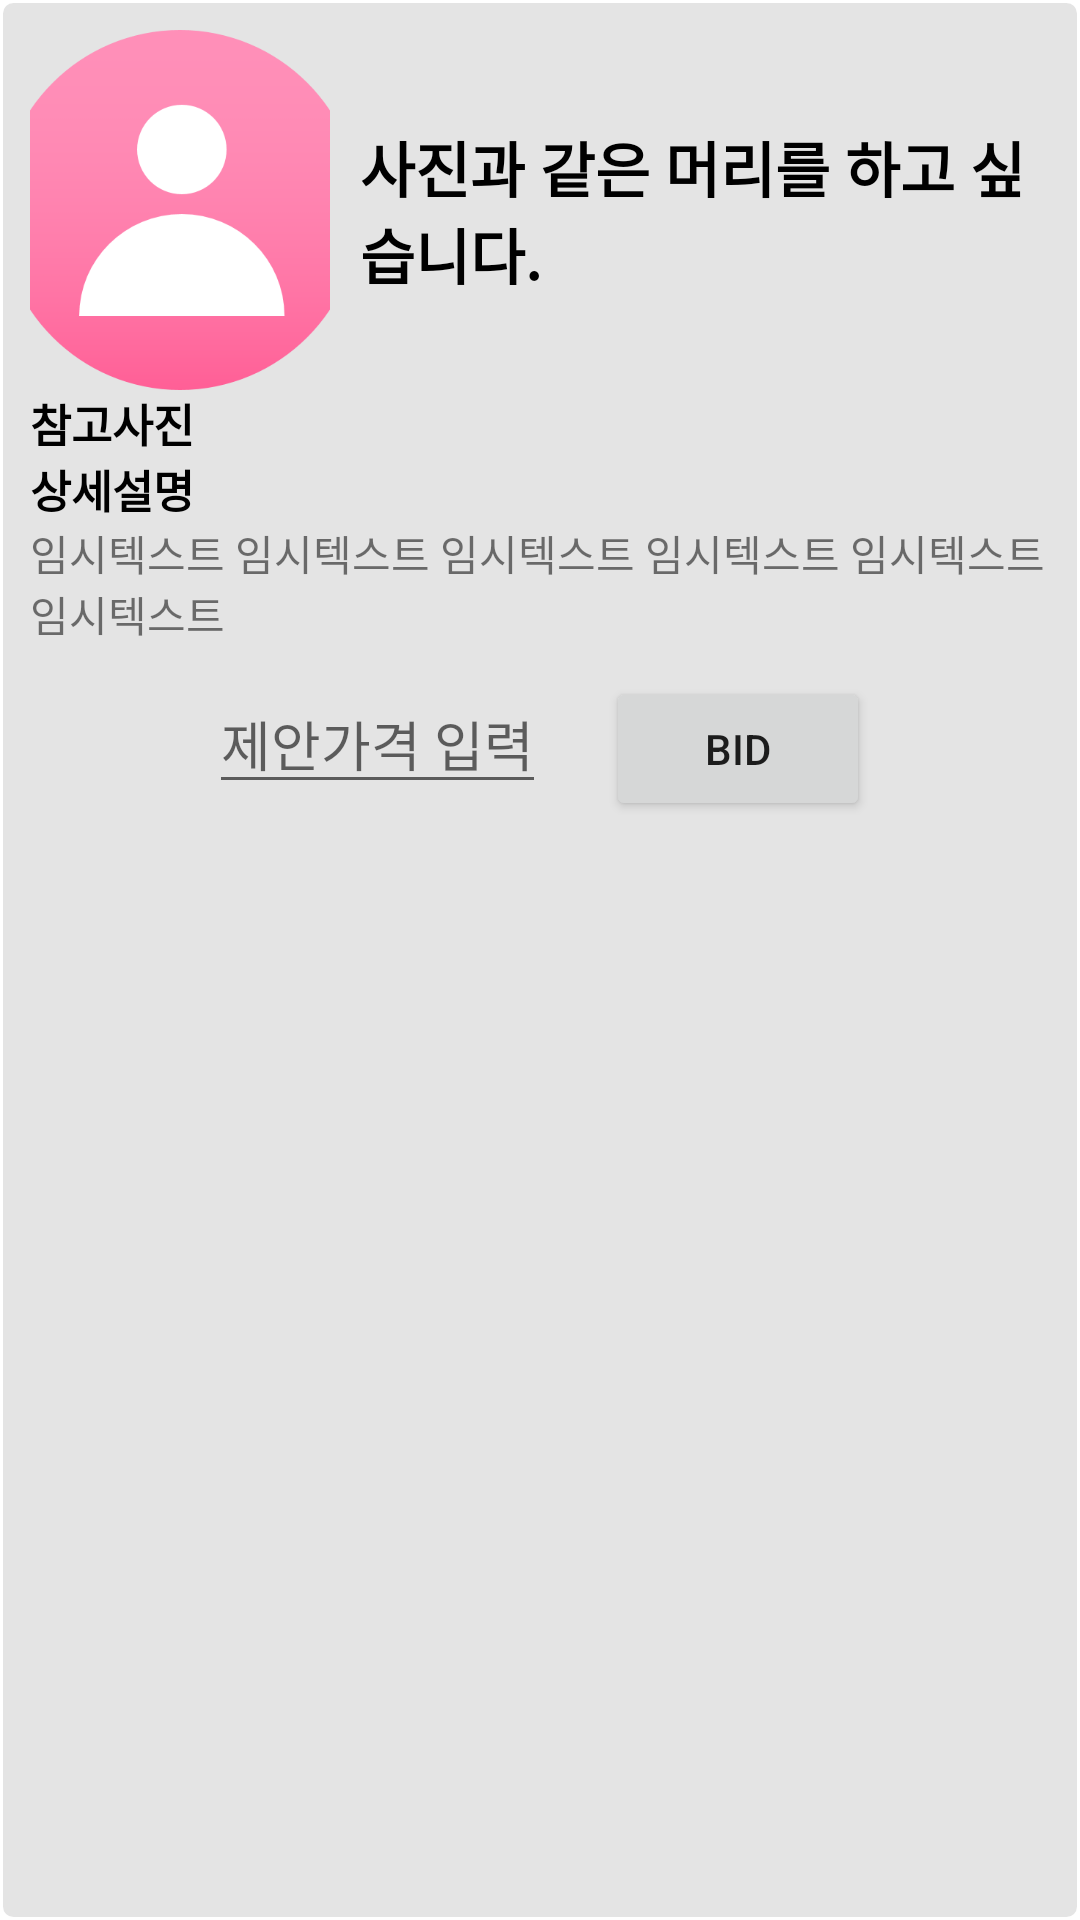

Point at icon controls on the screen. Image size 1080px×1920px, points as (x,y).
profile: (180,210)
